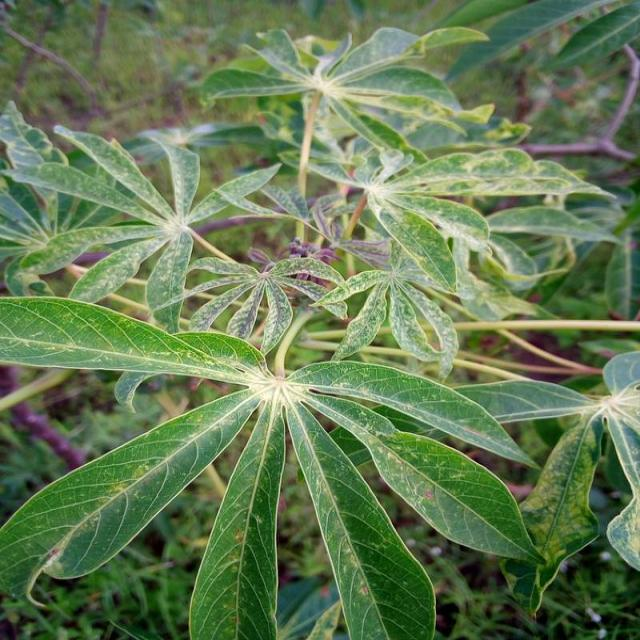cassava leaf: (0, 18, 632, 637)
